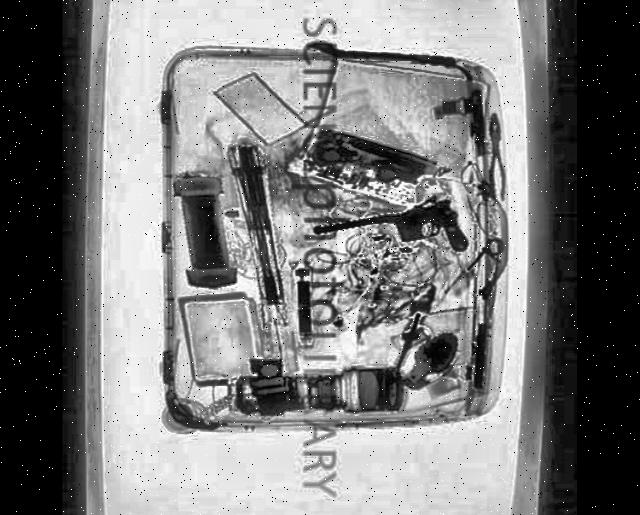Gun: (311, 198, 468, 256)
